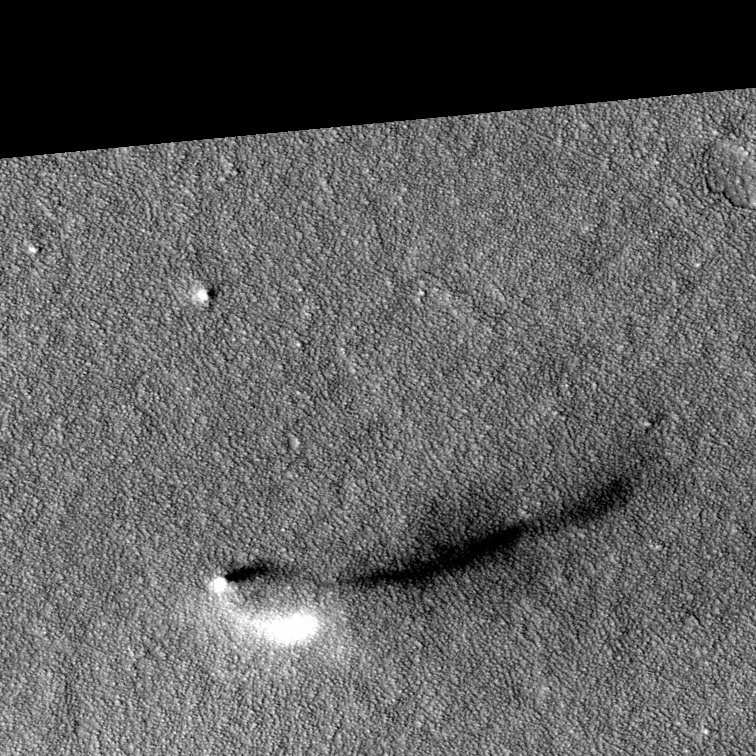dust_devil: (199, 450, 671, 656)
